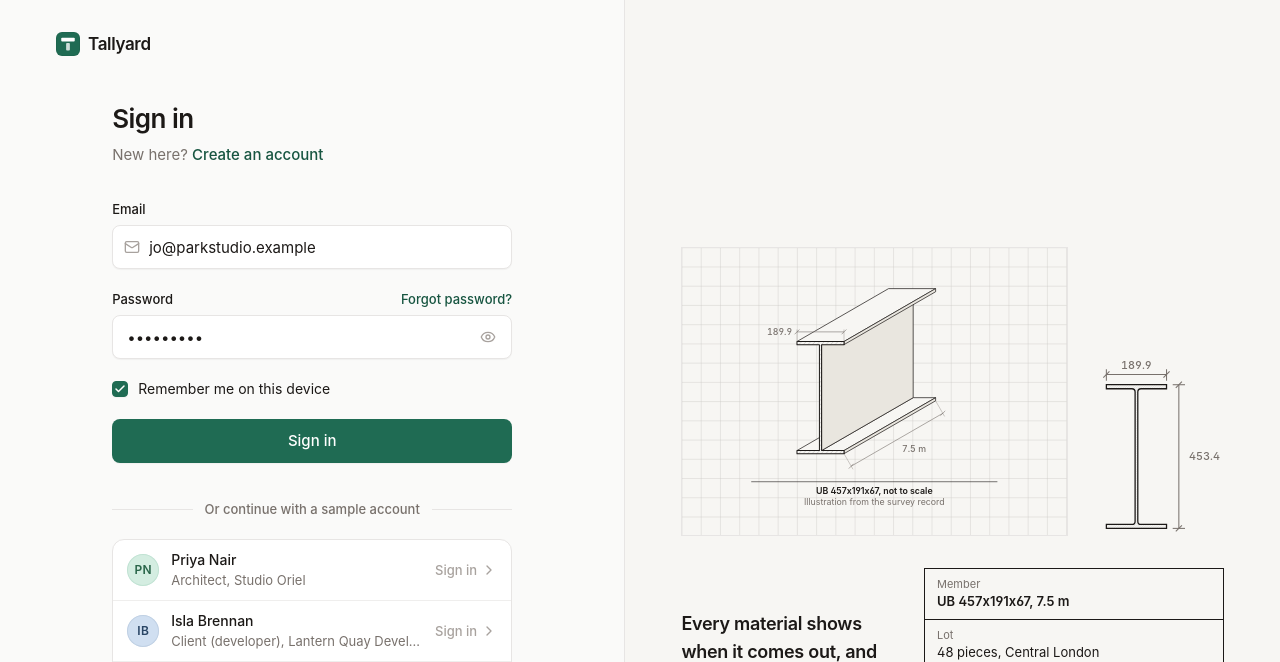
sign-in after an upgrade › an account made before the update is explained, with a way to sign up
This screenshot has width=1280, height=662.
Type "drawings1" into the password field labelled "Password".
click(312, 337); type("drawings1")  # box [112,315,512,359]
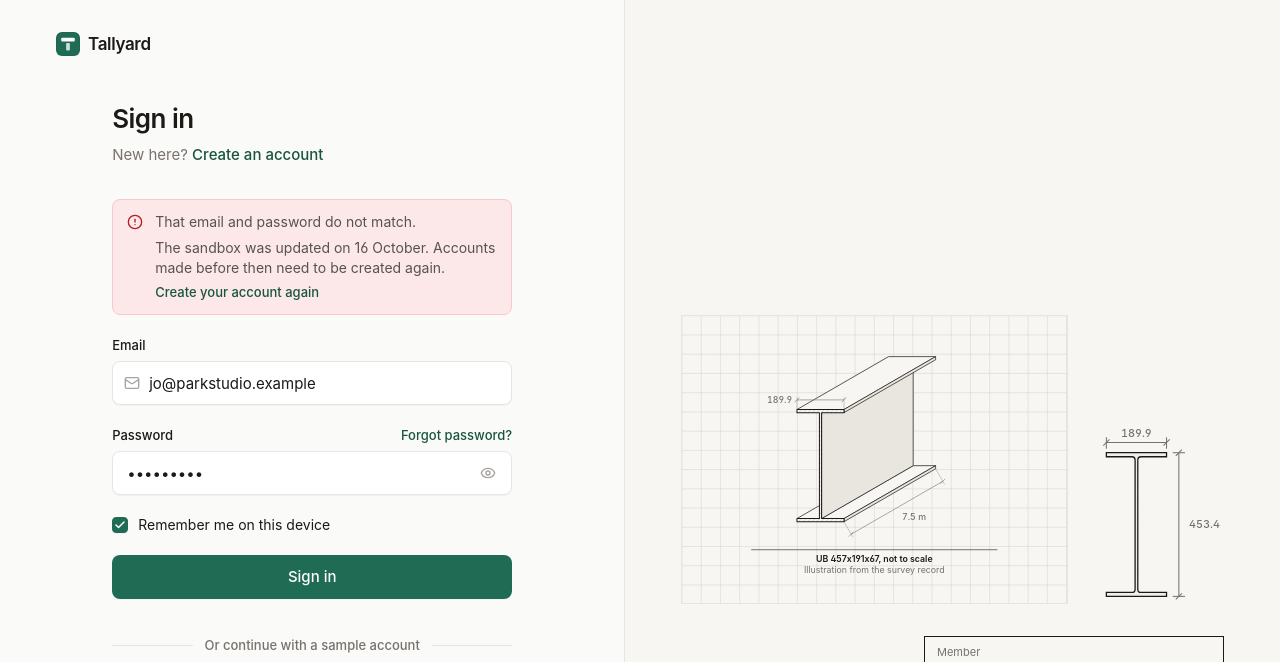
Expected: the message is shown, [112,199,512,315]
Expected: the message shows "That email and password do not match.", [155,213,416,230]
